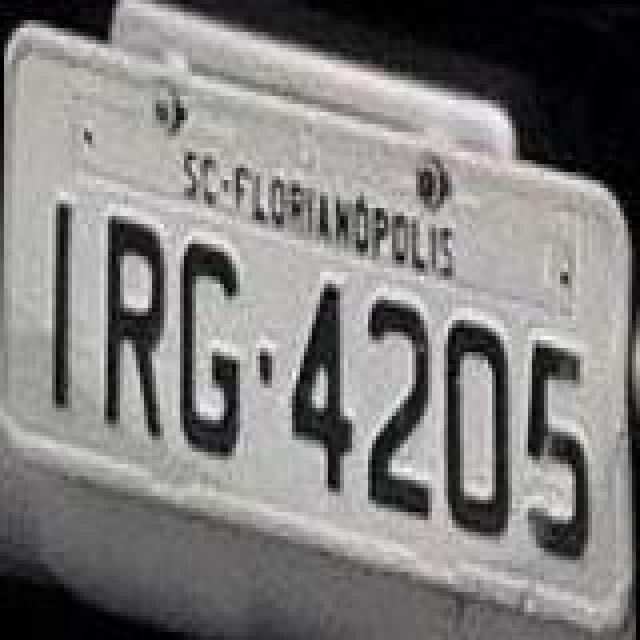1: (46, 196, 74, 412)
2: (362, 292, 438, 524)
4: (282, 274, 358, 494)
5: (522, 336, 598, 560)
G: (172, 234, 244, 462)
O: (438, 314, 514, 534)
R: (102, 212, 170, 444)
